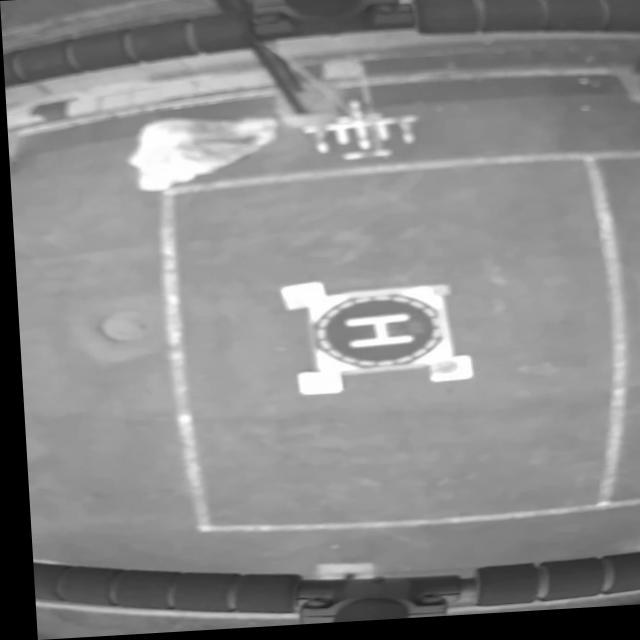Helipad: (340, 316, 409, 352)
